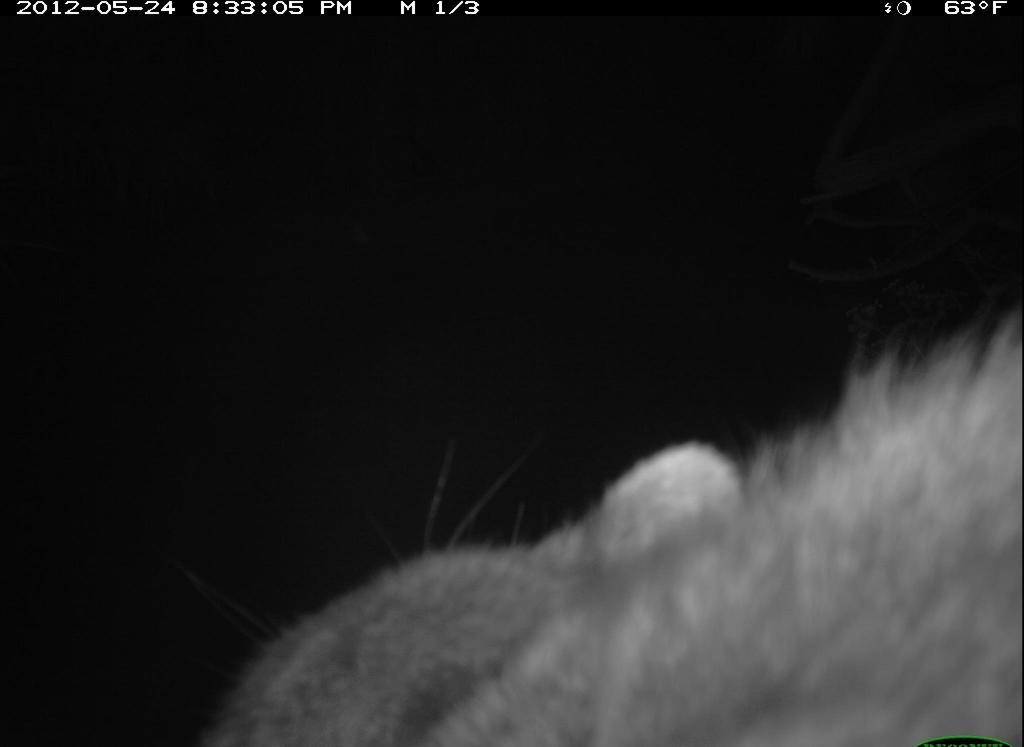raccoon: (167, 300, 1023, 740)
